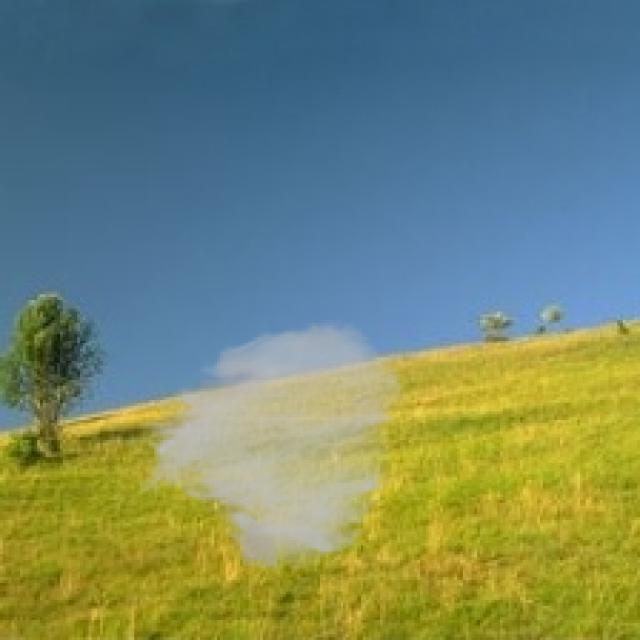smoke: (134, 320, 409, 574)
